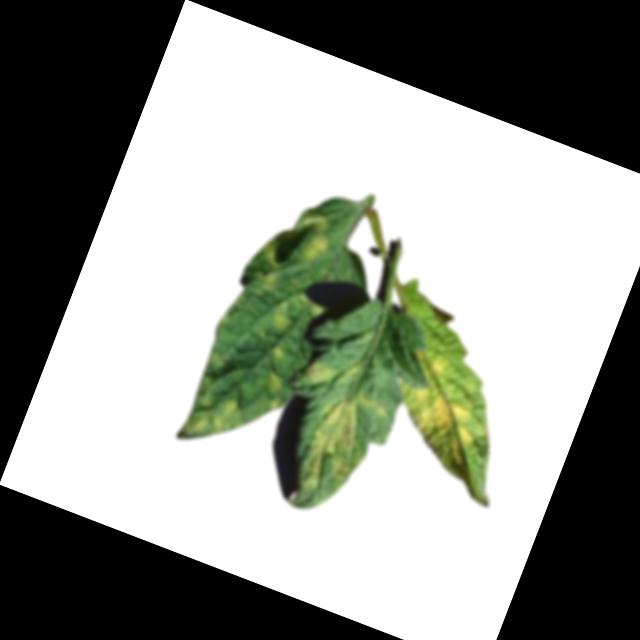Leaf_Mold: (376, 345, 499, 480), (293, 382, 391, 505), (172, 384, 248, 454), (280, 203, 336, 265), (245, 239, 289, 293), (298, 352, 339, 392), (255, 368, 291, 413), (262, 299, 297, 337)
